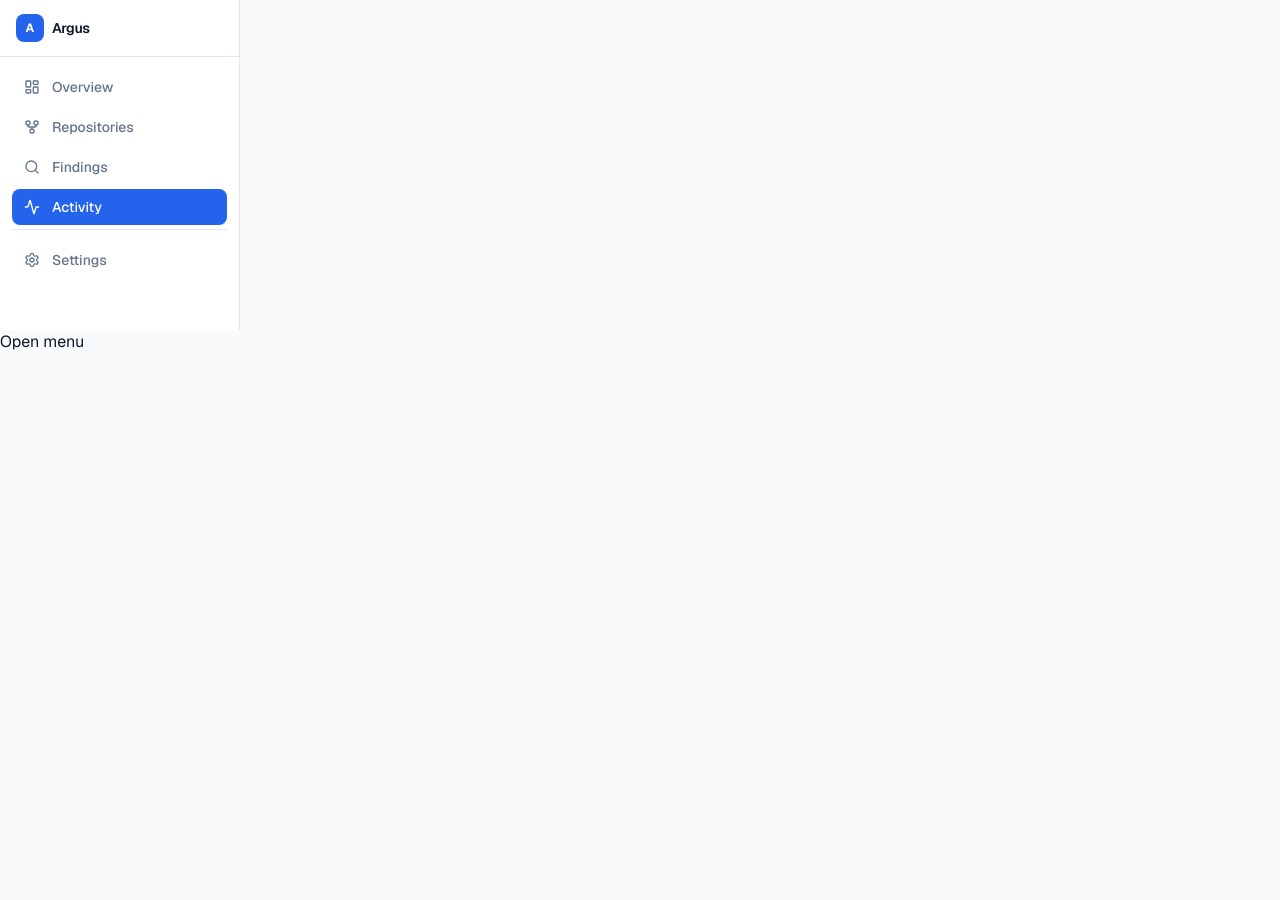
Scenario: retains desktop/mobile navigation order, active Activity and bottom Settings
Expected: the links read "Overview", "Repositories", "Findings", "Activity", "Settings", in this order, top-left (24, 78), bottom-right (113, 96); top-left (24, 118), bottom-right (134, 136); top-left (24, 158), bottom-right (108, 176); top-left (12, 189), bottom-right (227, 225); top-left (24, 251), bottom-right (107, 269)
Click the button "Open menu" at (42, 342), box top-left (0, 330), bottom-right (84, 354)
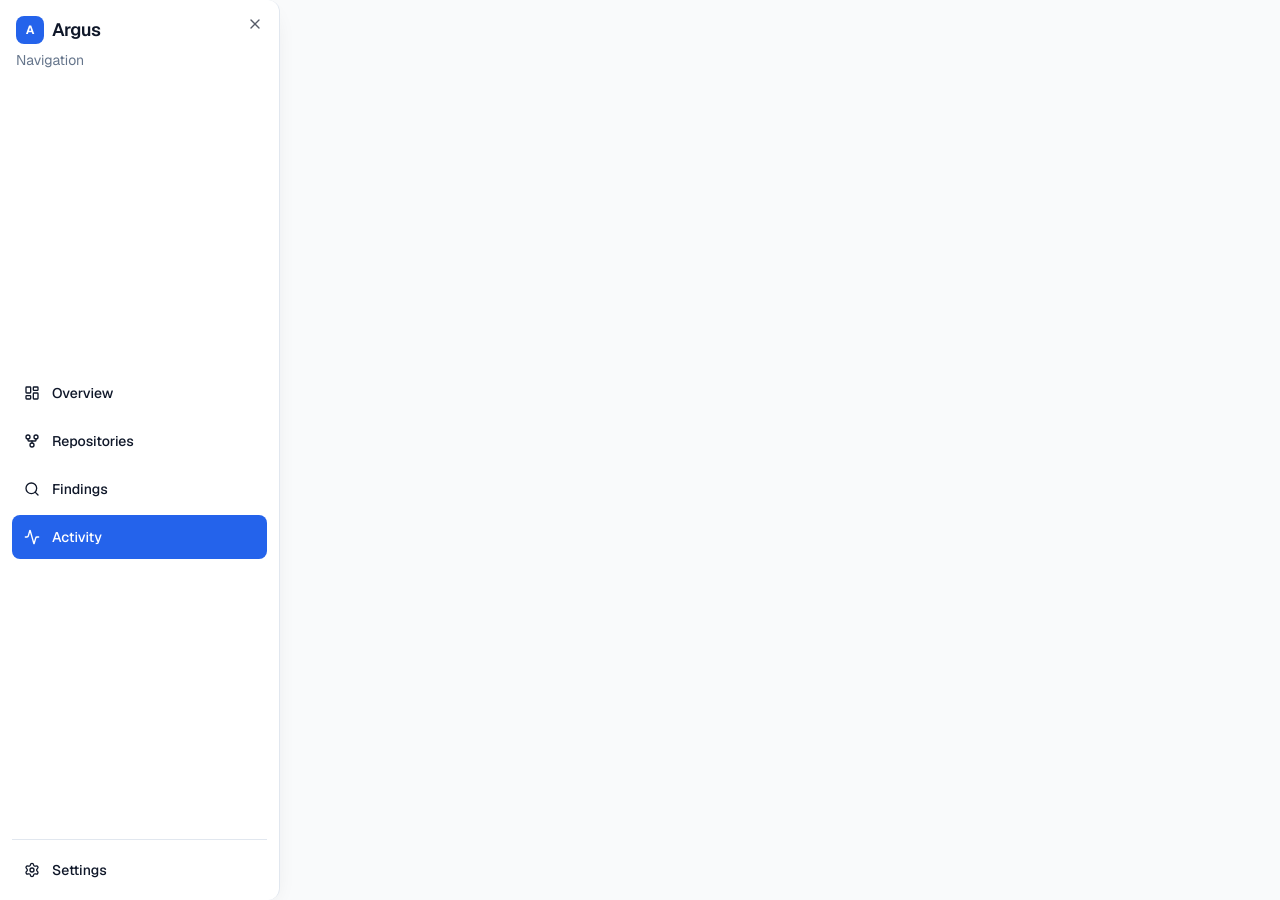
Result: the links read "Overview", "Repositories", "Findings", "Activity", "Settings", in this order at top-left (24, 384), bottom-right (113, 402); top-left (24, 432), bottom-right (134, 450); top-left (24, 480), bottom-right (108, 498); top-left (12, 514), bottom-right (267, 558); top-left (24, 861), bottom-right (107, 879)
